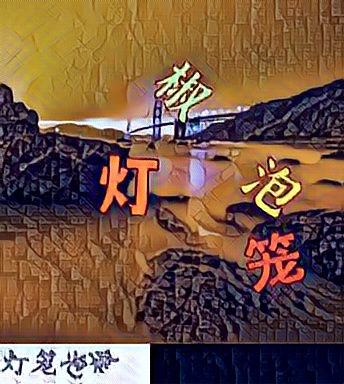B5C6: (97, 151, 159, 215)
BDB7: (151, 58, 213, 122)
C1FD: (244, 230, 306, 294)
C5DD: (241, 157, 303, 221)
